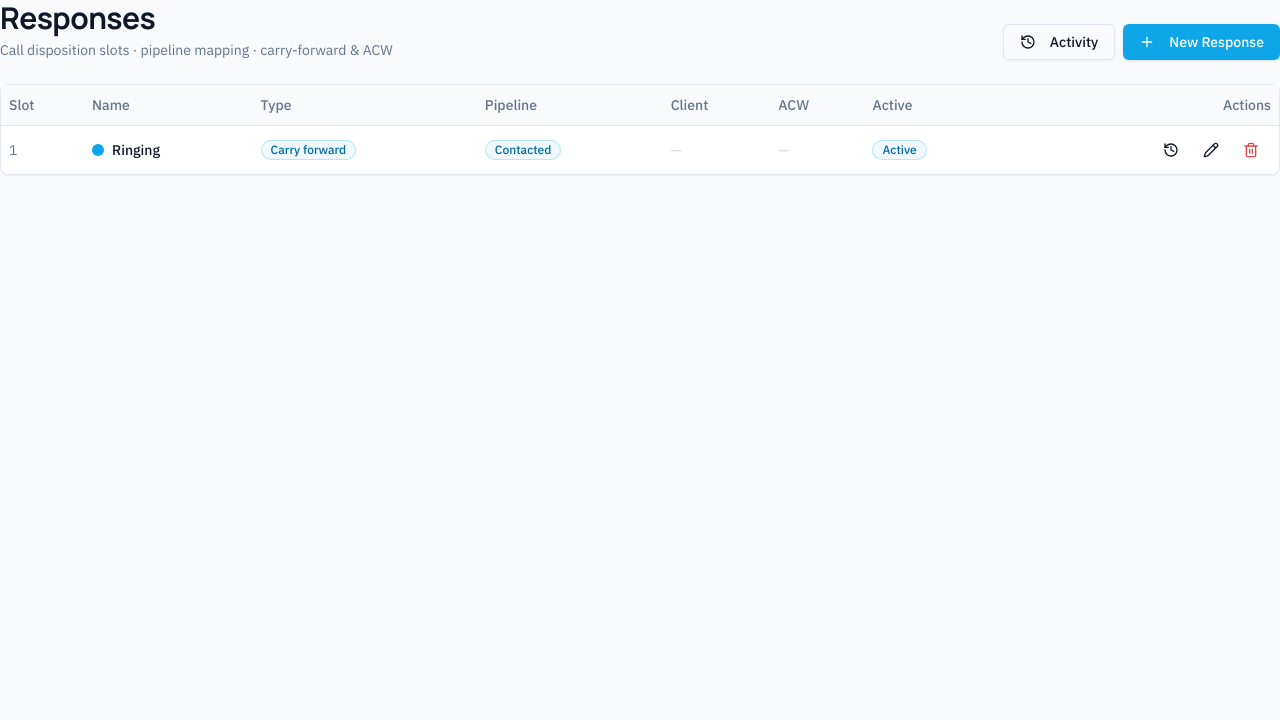
Test: Dispositions name lock on edit › keeps name enabled when creating a new response
This screenshot has width=1280, height=720.
Step 1. Click the button with test id "new-disposition-btn" → (1202, 42), box x1=1123 y1=24 x2=1279 y2=60
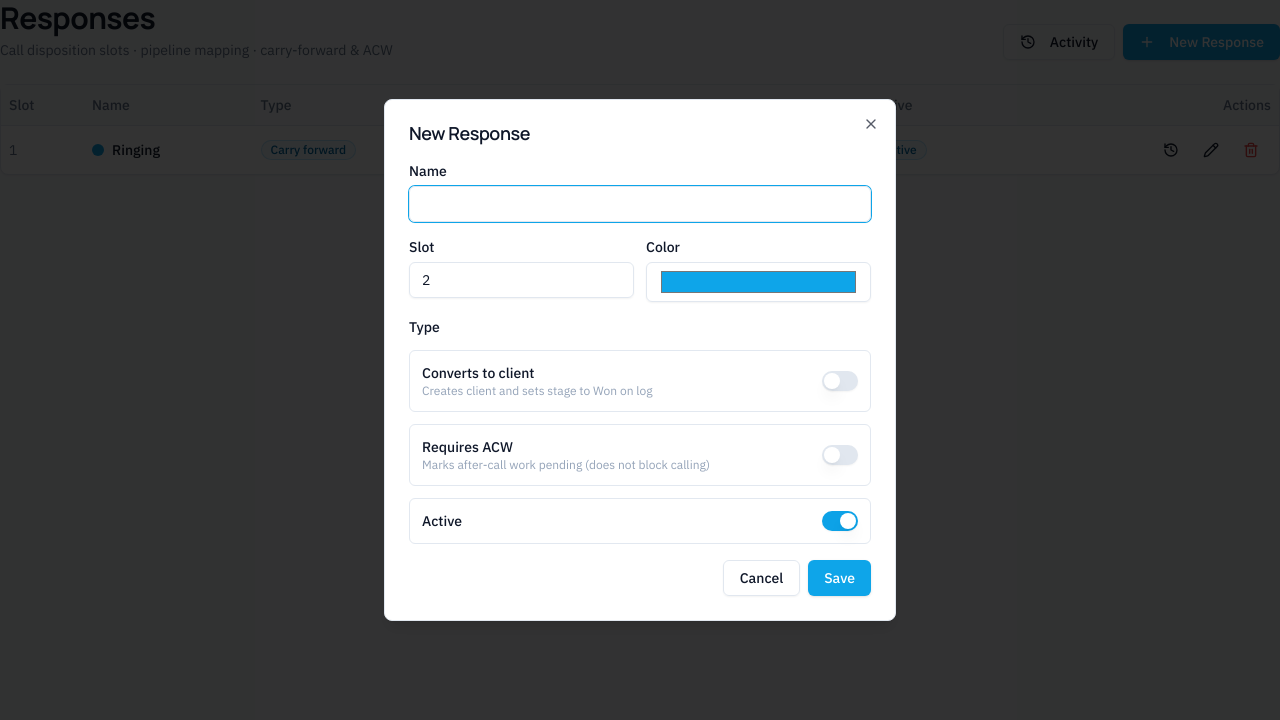
Expected: the field with test id "disp-name" is enabled, x1=409 y1=186 x2=871 y2=222
Now the dialog with test id "disp-dialog" is shown, box x1=384 y1=99 x2=896 y2=621
